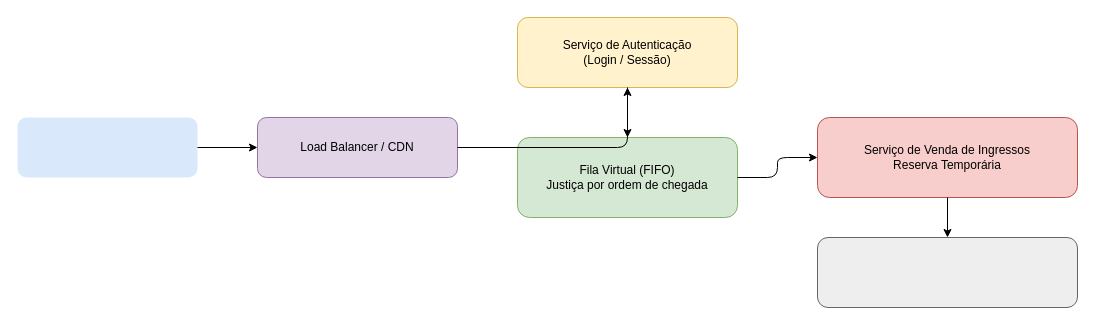
The diagram is 1095 pixels wide and 325 high, and some of its shapes have lost their labels. The shapes that lost their labels are listed below. From the top down, each one's centre as x and y in pixels, then its label:
At point (107, 147): "Cliente (Browser / App)".
At point (947, 272): "Banco de Dados Ingressos / Reservas".
